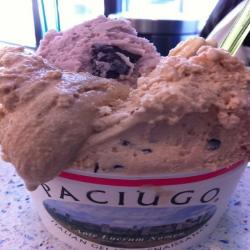icecream: (1, 16, 245, 232)
